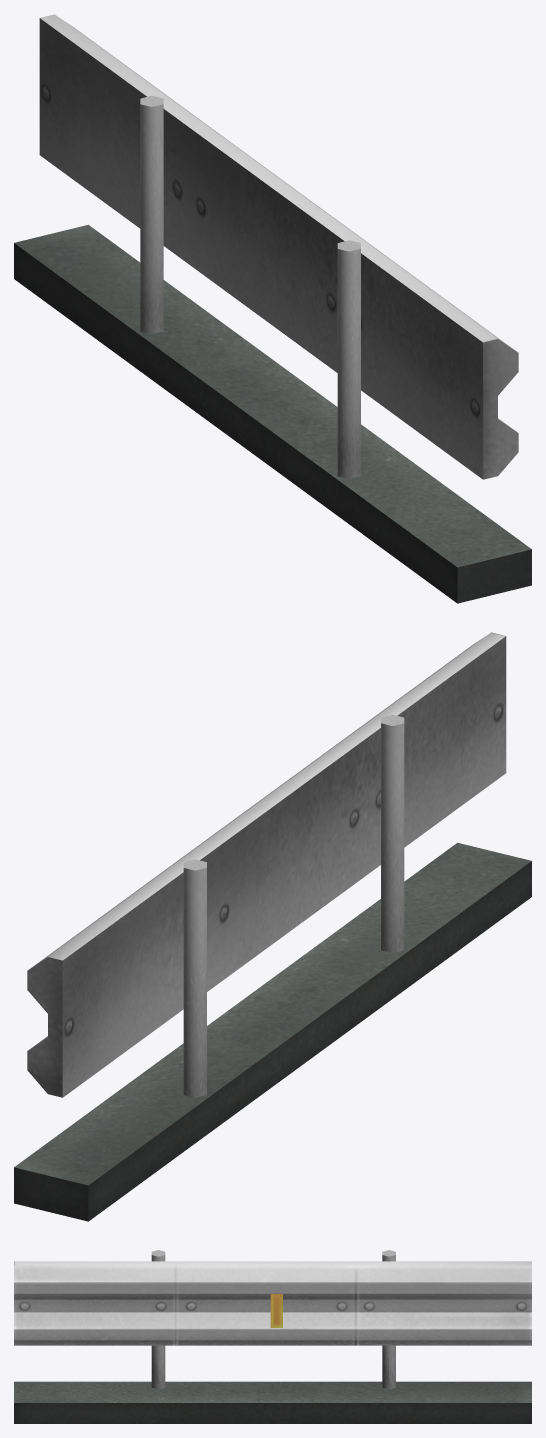
File: hulan_A.FBX
3 views of the same model, one above another, from view 1: azimuth 30°, elevation 25°; view 2: azimuth 150°, elevation 25°; view 3: azimuth 270°, elevation 25° (orthographic). The views are drawn at different scales.
Parts seen in each view (by area): view 1: hulan_A; view 2: hulan_A; view 3: hulan_A.
Boxes of the visible parts, left/top/right/bottom form: hulan_A: left=14, top=14, right=531, bottom=603; hulan_A: left=14, top=632, right=531, bottom=1221; hulan_A: left=14, top=1250, right=531, bottom=1423.
Bounding box in the file's own units: 15.63 × 52.82 × 161.
